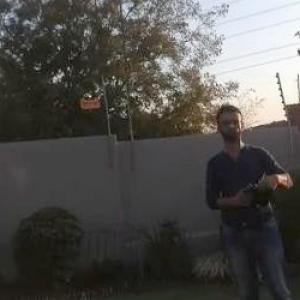follow: (199, 92, 299, 299)
